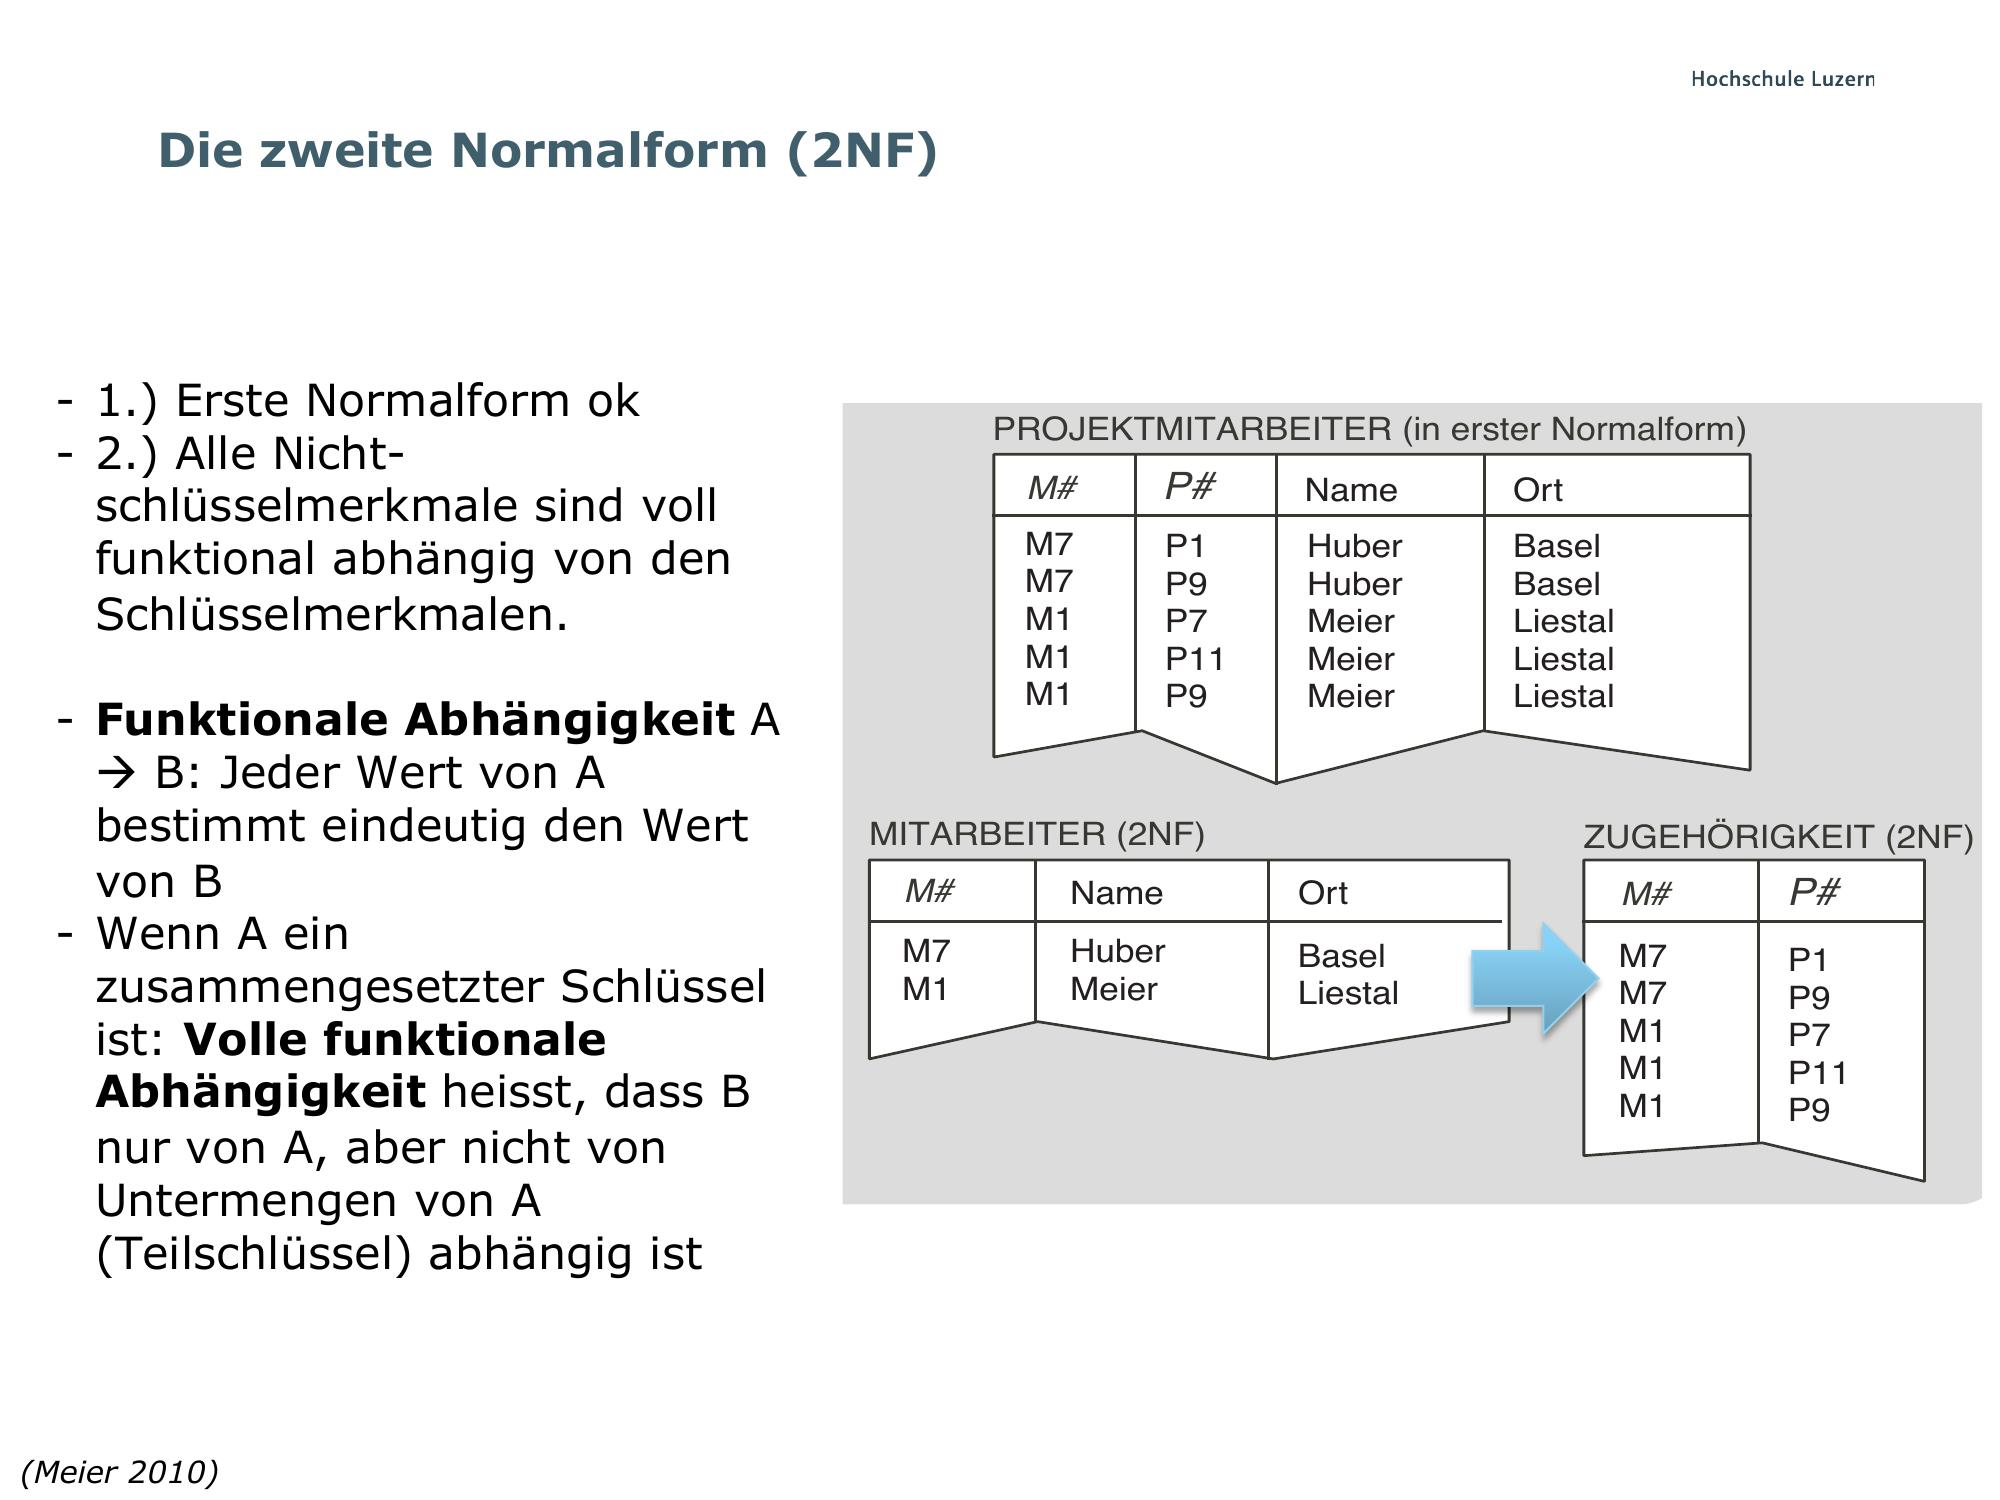Title: (153, 109, 953, 195)
